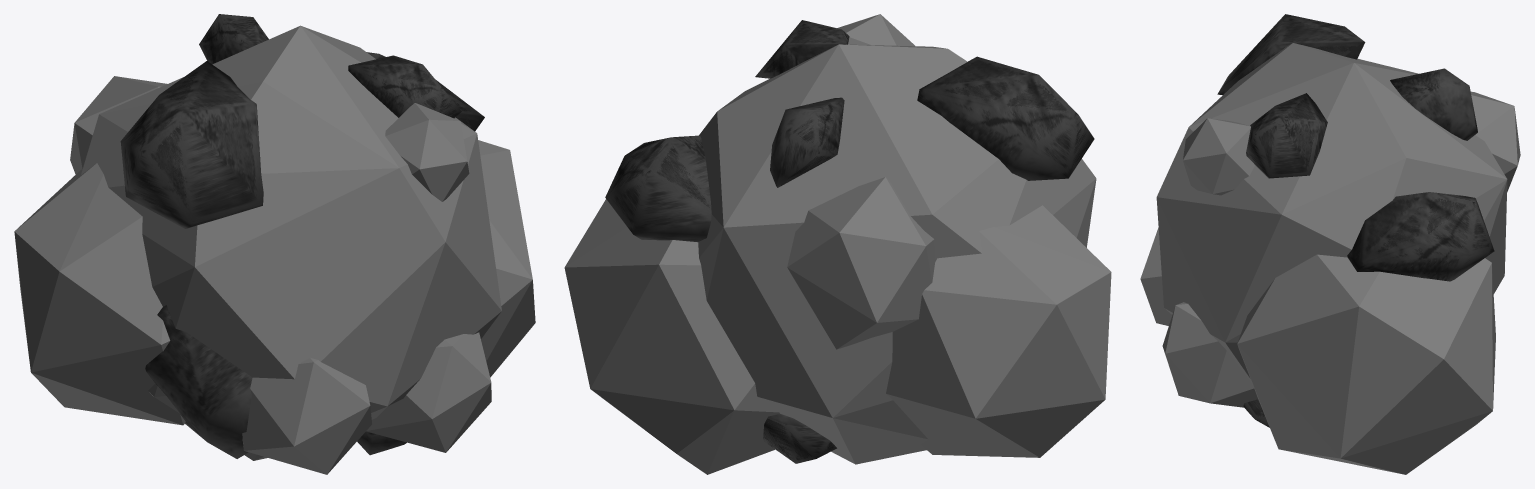
The model's file is lavastoneSemioreLP.fbx.
3 renders of one model, left to right at view 1: azimuth 30°, elevation 25°; view 2: azimuth 150°, elevation 25°; view 3: azimuth 270°, elevation 25°, orthographic. The views are drawn at different scales.
Visible parts, largest first — view 1: StoneOre.011, LavastoneParticle.067; view 2: StoneOre.011, LavastoneParticle.067; view 3: StoneOre.011, LavastoneParticle.067.
Boxes of the visible parts, x1,y1,x2,y2 form: StoneOre.011: [14, 25, 535, 474]; LavastoneParticle.067: [120, 14, 484, 458]; StoneOre.011: [564, 14, 1111, 474]; LavastoneParticle.067: [605, 20, 1094, 463]; StoneOre.011: [1140, 43, 1520, 474]; LavastoneParticle.067: [1217, 14, 1494, 427].
Bounding box in the file's own units: 274 × 227 × 211.
